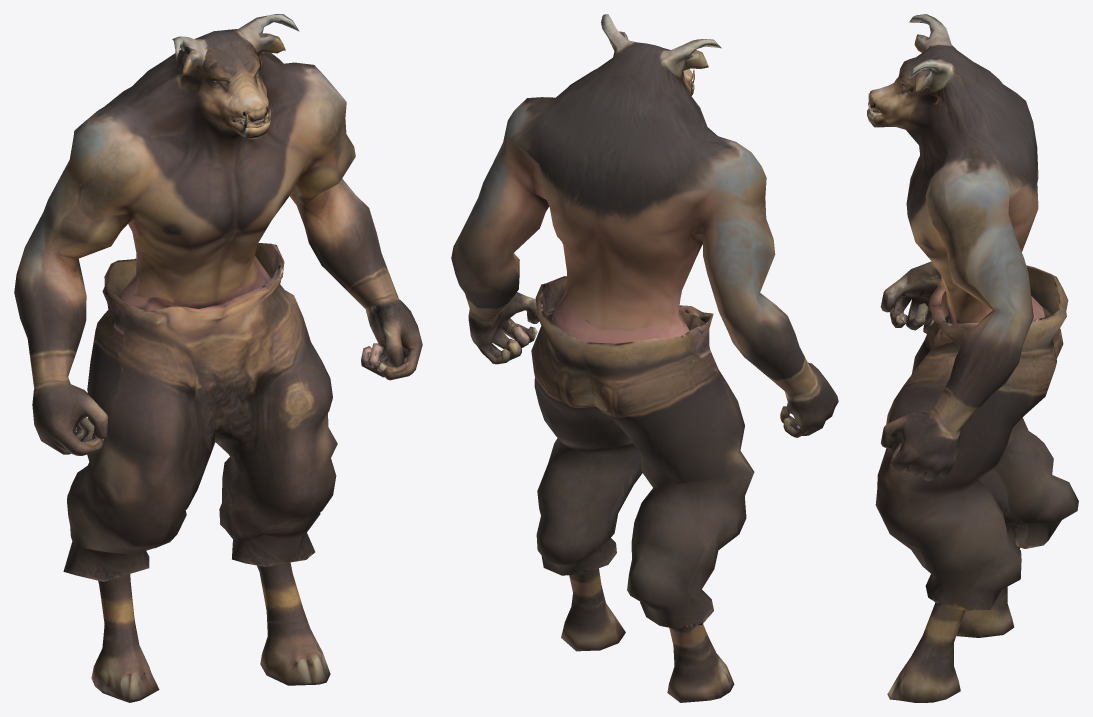
File: minotauro.glb
The picture shows the model from 3 angles, left to right: view 1: azimuth 30°, elevation 25°; view 2: azimuth 150°, elevation 25°; view 3: azimuth 270°, elevation 25°; orthographic projection. The views are drawn at different scales.
Bounding box in the file's own units: 1.2 × 2 × 0.6148.
1 material, 1 textured.
